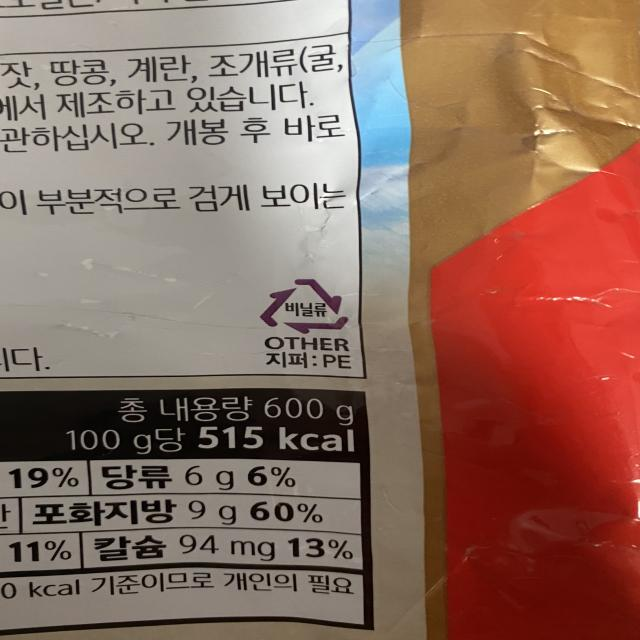Vinyl: (260, 273, 353, 336)
